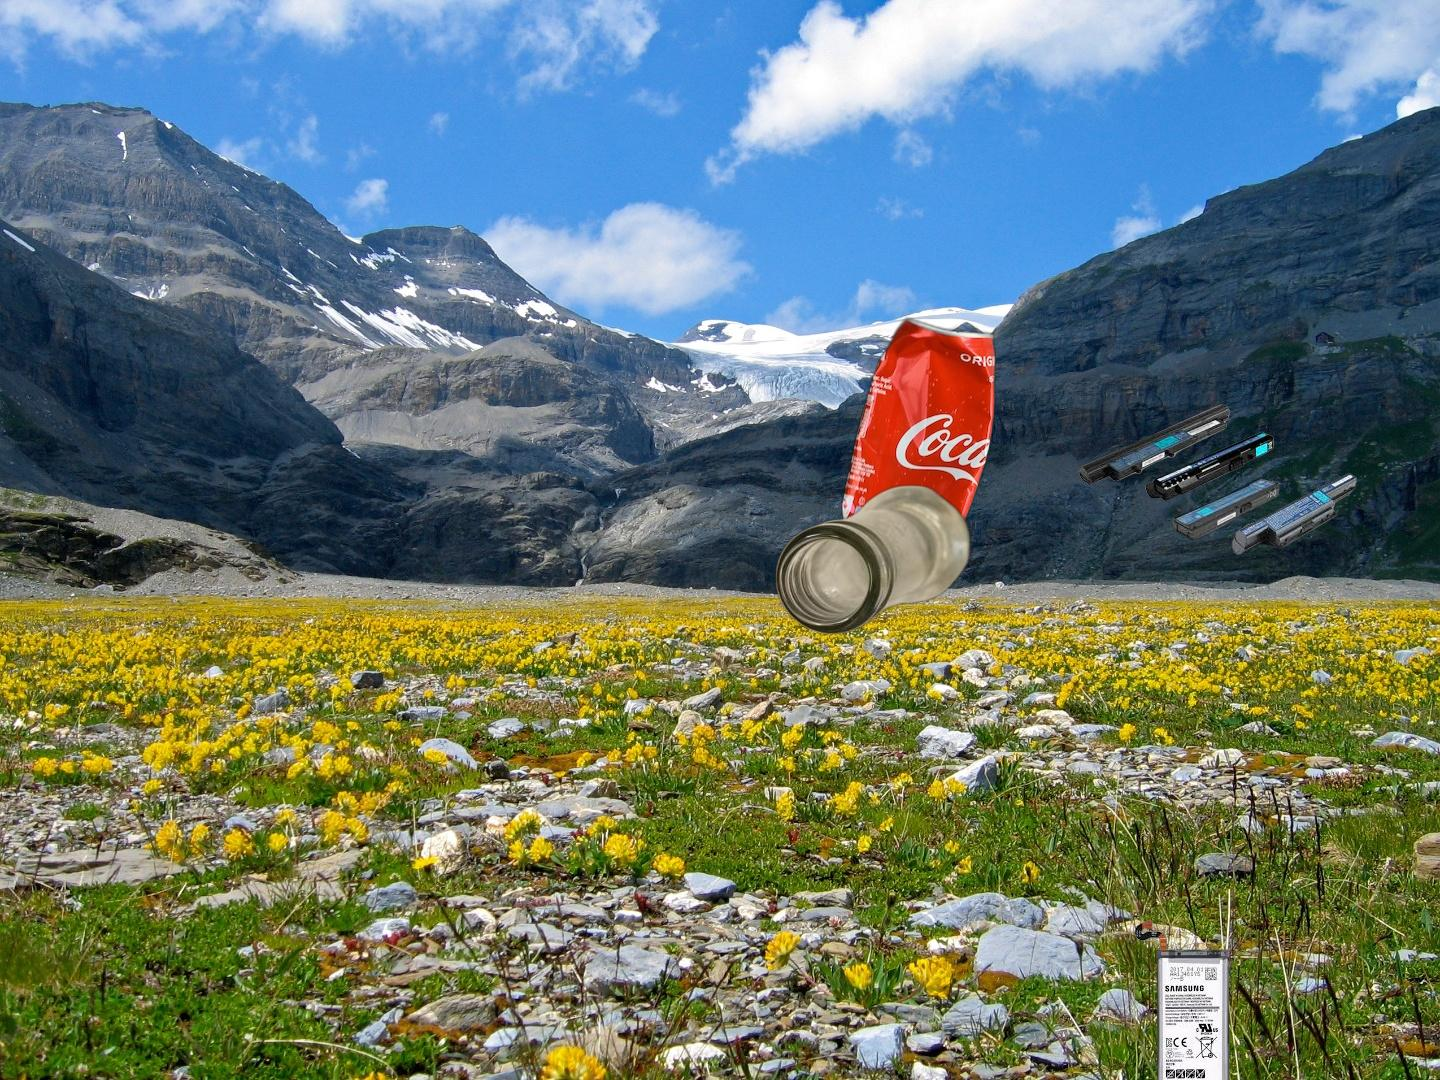battery: (1075, 400, 1359, 558), (1132, 917, 1233, 1080)
glass: (701, 481, 976, 707)
metal-cans: (837, 312, 999, 573)
plastic-bottles: (1352, 746, 1440, 1080)
